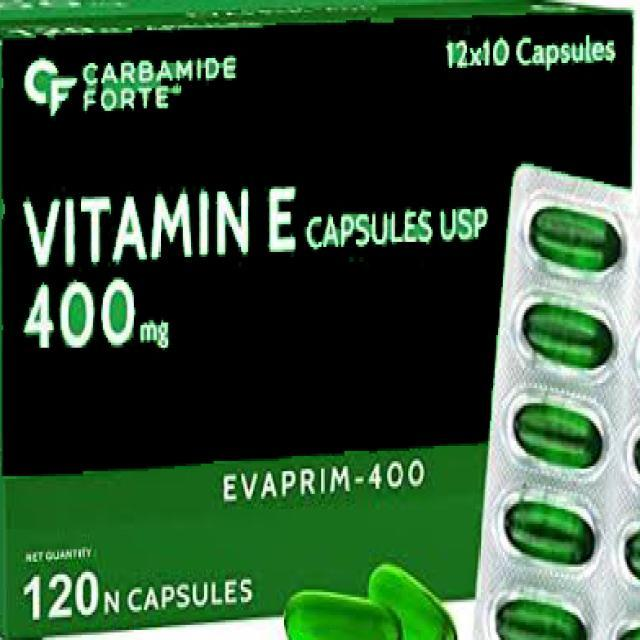drug-name: (19, 185, 304, 274)
